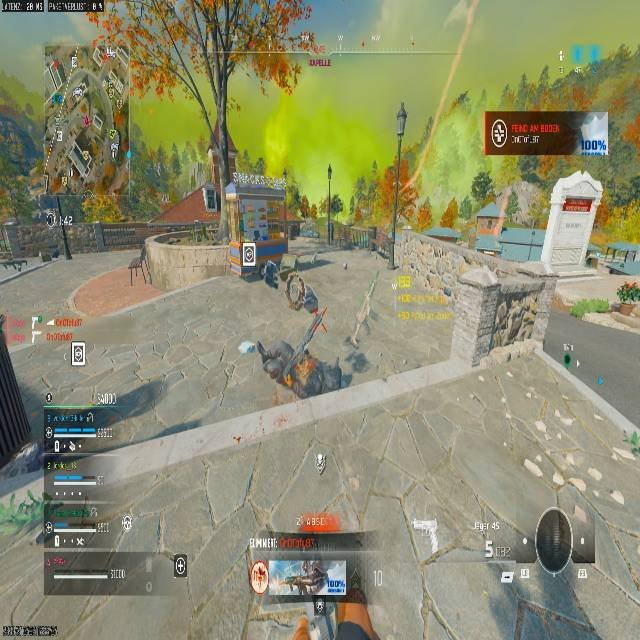head: (306, 558, 321, 573)
player: (294, 558, 331, 639)
